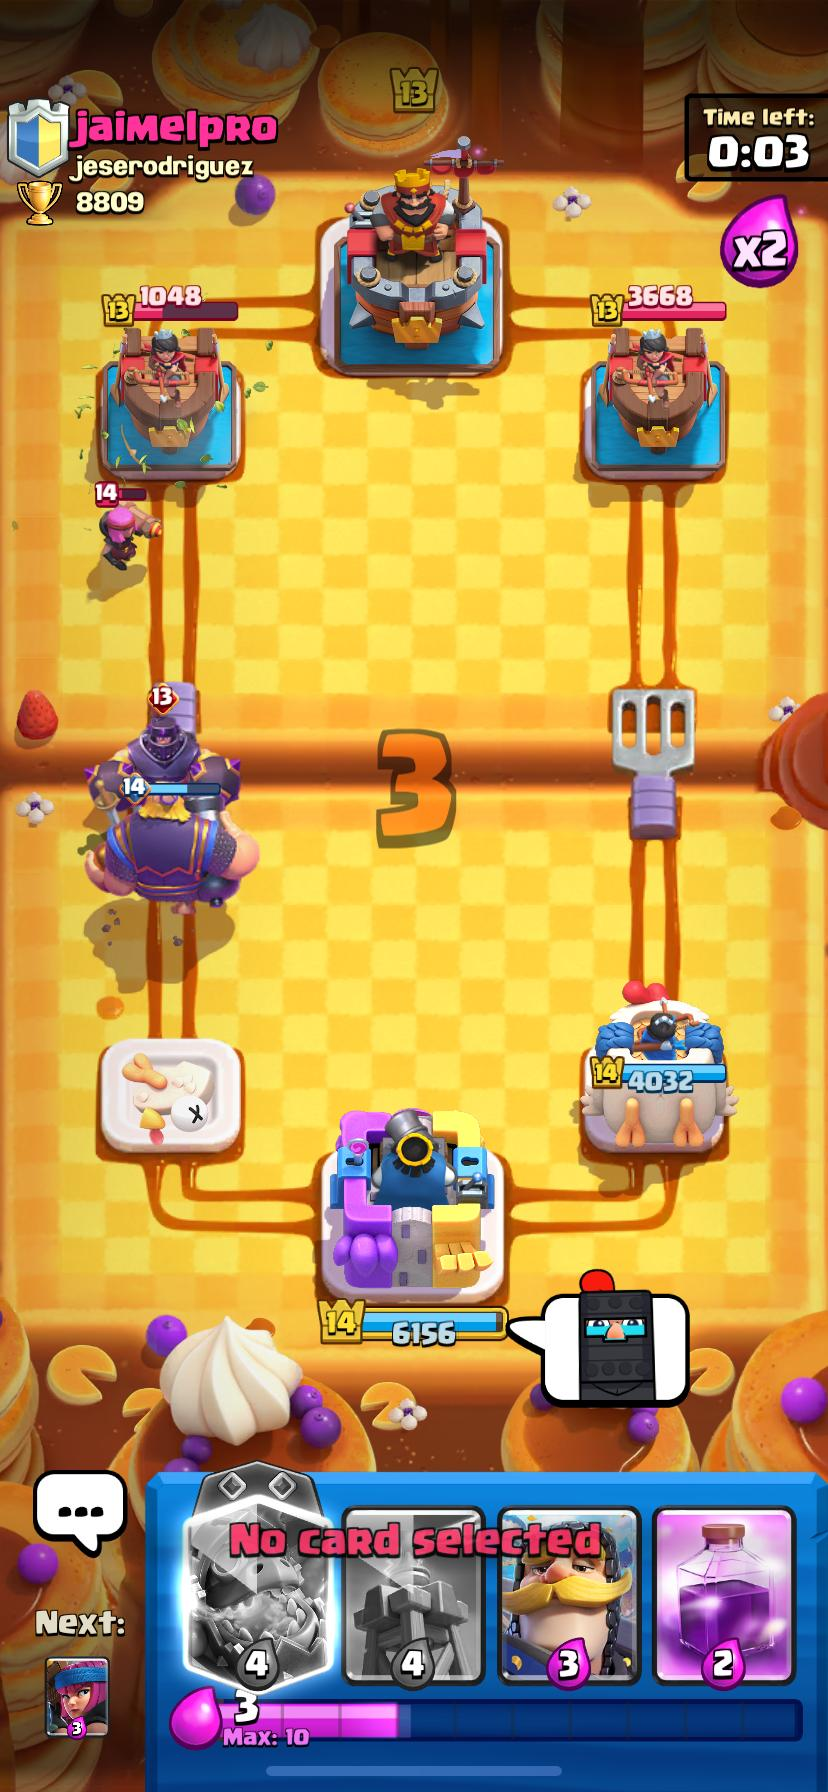EEVMegaKnight: (87, 714, 239, 799)
EFirecrack: (99, 503, 162, 570)
EKingTower: (319, 139, 502, 378)
EnemyPrincessTower: (104, 328, 240, 479), (592, 326, 719, 470)
OEVRoyalG: (85, 794, 258, 902)
OwnKingTower: (323, 1109, 497, 1301)
OwnPrincessTower: (580, 983, 737, 1154)
TowerDown: (99, 1037, 242, 1157)
